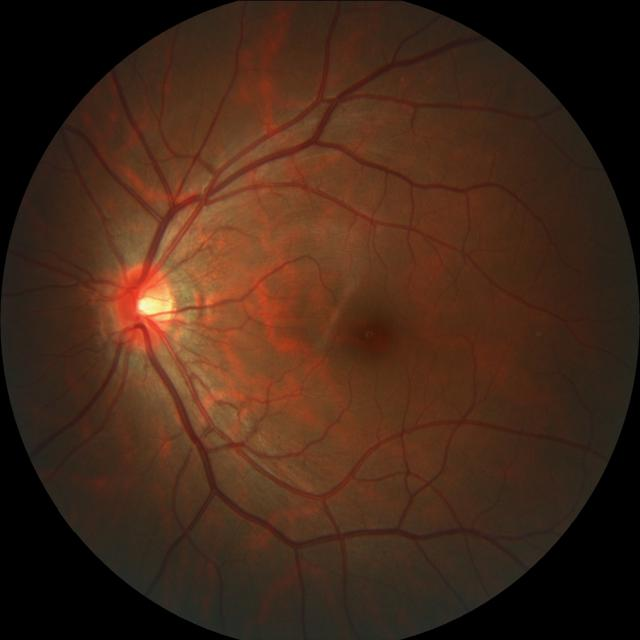OC: (123, 280, 174, 330)
OD: (114, 260, 176, 351)
